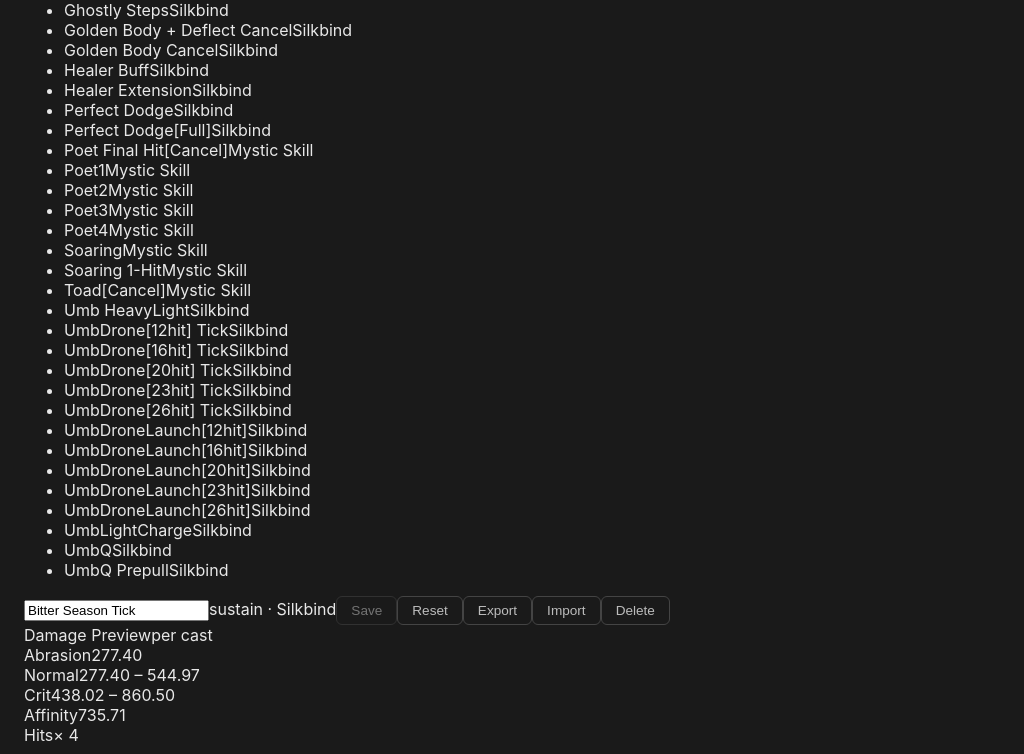
Test case: Skill Editor — a tick source states how many times its one hit lands › counts the drone's ticks under the per-hit damage preview
(page scrolled)
Click the text "UmbDrone[20hit] Tick": (148, 370) [64,360,232,380]
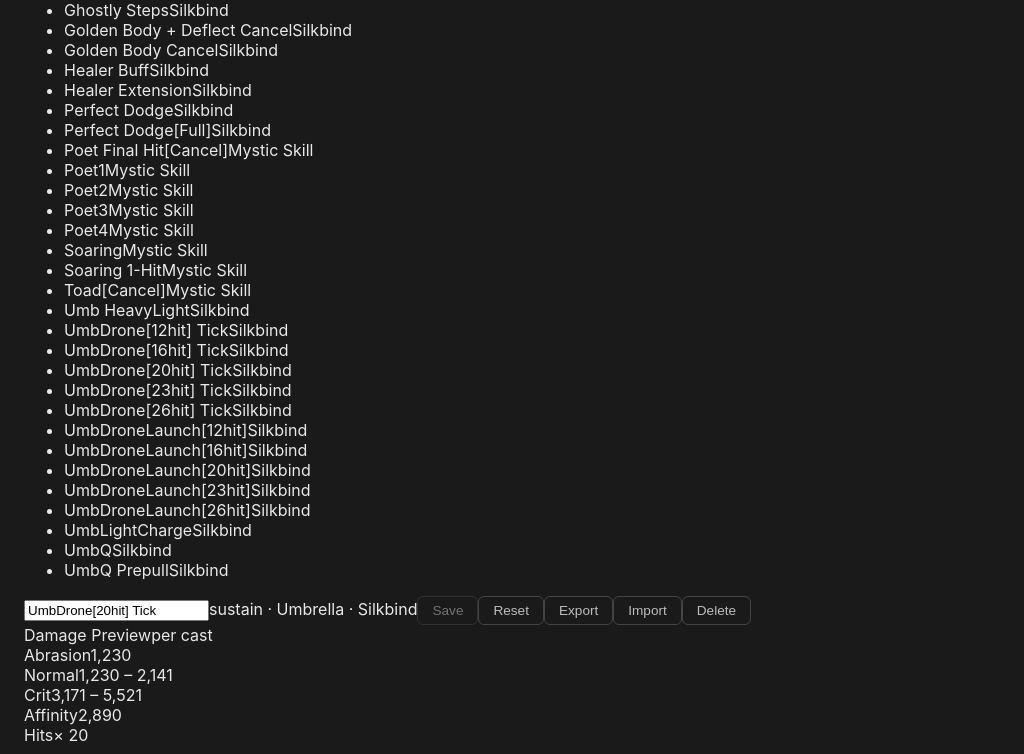
Check: the text "× 20" is shown, box [53,725,88,745]
